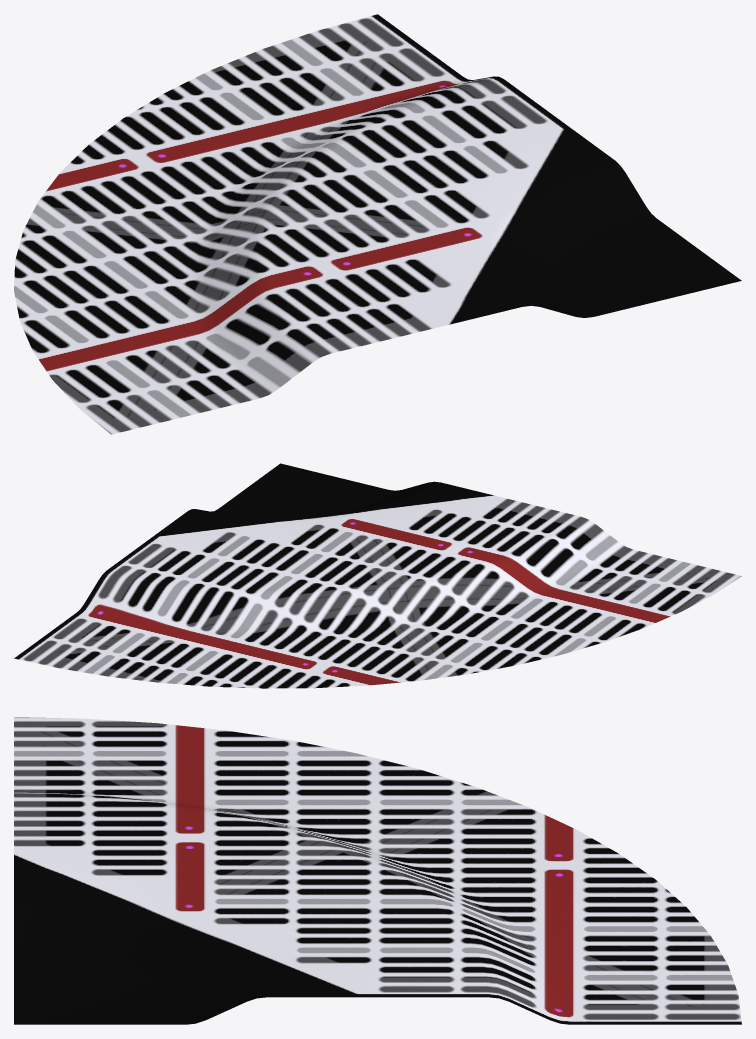
File: Roof_Turn_01.FBX
The picture shows the model from 3 angles, top to bottom: view 1: azimuth 30°, elevation 25°; view 2: azimuth 150°, elevation 25°; view 3: azimuth 270°, elevation 25°; orthographic projection. The views are drawn at different scales.
Parts seen in each view (by area): view 1: Roof_Turn_01; view 2: Roof_Turn_01; view 3: Roof_Turn_01.
Part boxes in pixels (x1,y1,x2,y2): Roof_Turn_01: (14, 14, 741, 434); Roof_Turn_01: (14, 463, 741, 688); Roof_Turn_01: (14, 717, 741, 1024).
Bounding box in the file's own units: 6 × 0.25 × 6.
